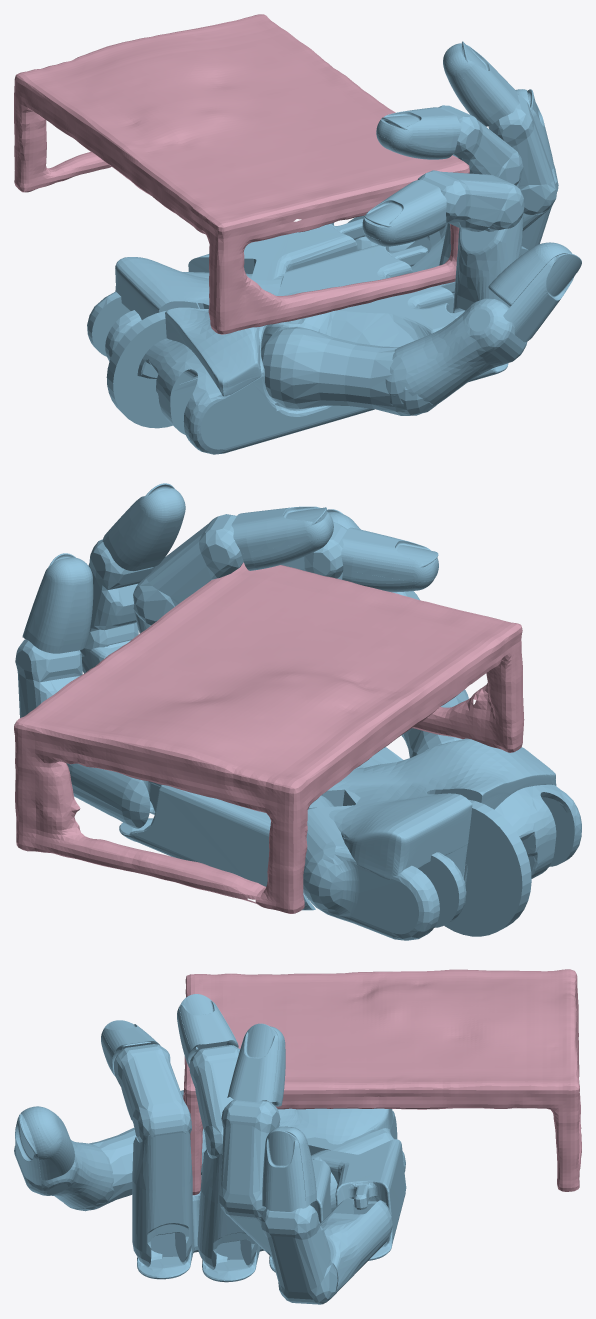
3 renders of one model, top to bottom at view 1: azimuth 30°, elevation 25°; view 2: azimuth 150°, elevation 25°; view 3: azimuth 270°, elevation 25°, orthographic. The views are drawn at different scales.
Parts seen in each view (by area): view 1: hand, world; view 2: world, hand; view 3: hand, world.
Boxes of the visible parts, x1=… form: hand: x1=87, y1=41, x2=581, y2=454; world: x1=14, y1=14, x2=469, y2=334; world: x1=14, y1=562, x2=524, y2=913; hand: x1=15, y1=483, x2=581, y2=940; hand: x1=14, y1=994, x2=406, y2=1304; world: x1=183, y1=969, x2=581, y2=1195.
Bounding box in the file's own units: 0.1631 × 0.1112 × 0.1879.
